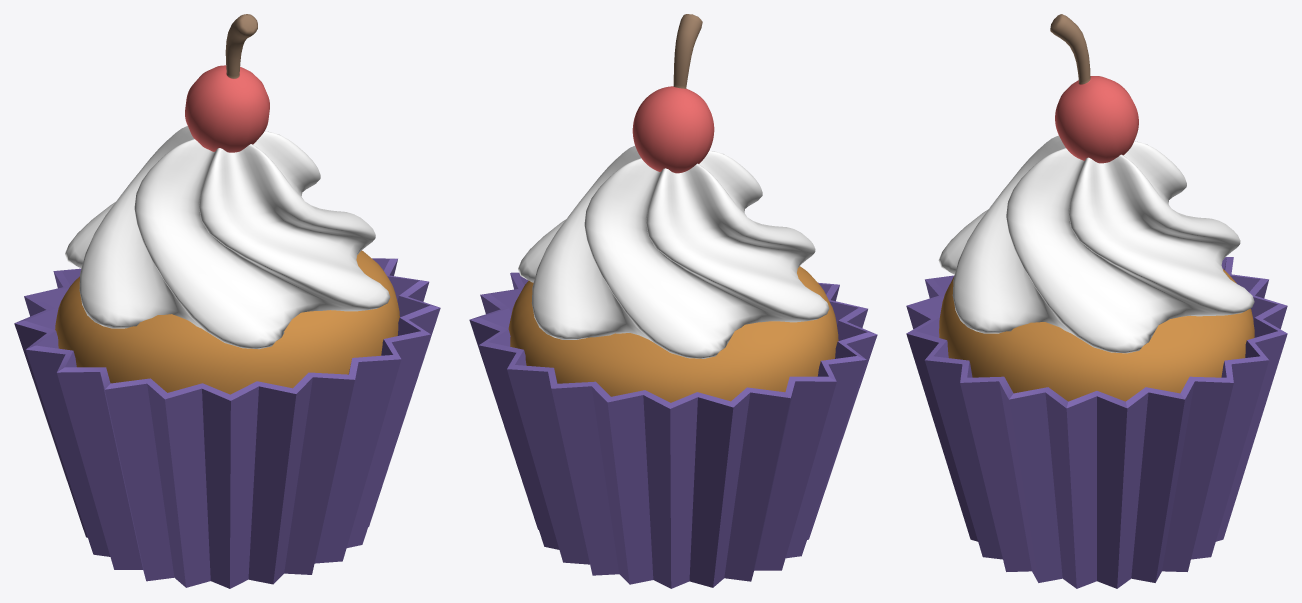
File: cupsss.fbx
3 views of the same model, side by side, from view 1: azimuth 30°, elevation 25°; view 2: azimuth 150°, elevation 25°; view 3: azimuth 270°, elevation 25° (orthographic). The views are drawn at different scales.
Parts seen in each view (by area): view 1: pCylinder1, pCone2, pSphere1, pSphere2; view 2: pCylinder1, pCone2, pSphere1, pSphere2; view 3: pCylinder1, pCone2, pSphere1, pSphere2.
Boxes of the visible parts, x1=… form: pCylinder1: x1=14, y1=258, x2=440, y2=588; pCone2: x1=65, y1=126, x2=390, y2=348; pSphere1: x1=55, y1=250, x2=399, y2=394; pSphere2: x1=185, y1=14, x2=269, y2=152; pCylinder1: x1=469, y1=272, x2=877, y2=588; pCone2: x1=518, y1=146, x2=829, y2=358; pSphere1: x1=508, y1=266, x2=838, y2=402; pSphere2: x1=632, y1=14, x2=714, y2=173; pCylinder1: x1=906, y1=257, x2=1287, y2=588; pCone2: x1=938, y1=135, x2=1254, y2=353; pSphere1: x1=939, y1=269, x2=1254, y2=401; pSphere2: x1=1050, y1=14, x2=1138, y2=163.
Size of the model in its own units: 5.04 by 6.86 by 4.6.
